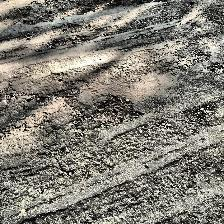pothole: (91, 93, 143, 126), (58, 34, 86, 46), (56, 23, 84, 33)
